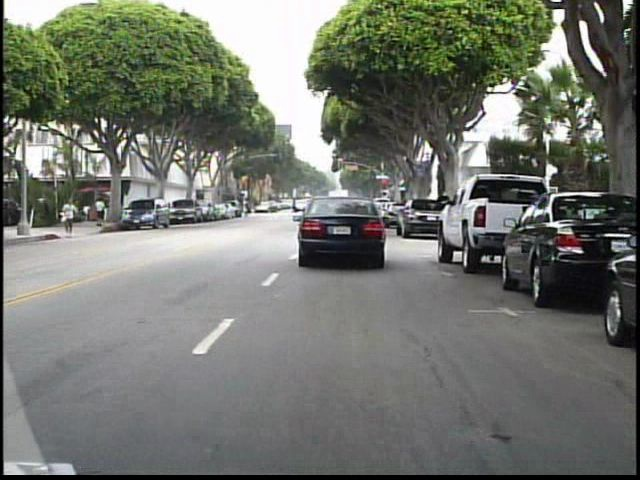person: (64, 194, 84, 239), (97, 194, 111, 228), (247, 198, 258, 219)
